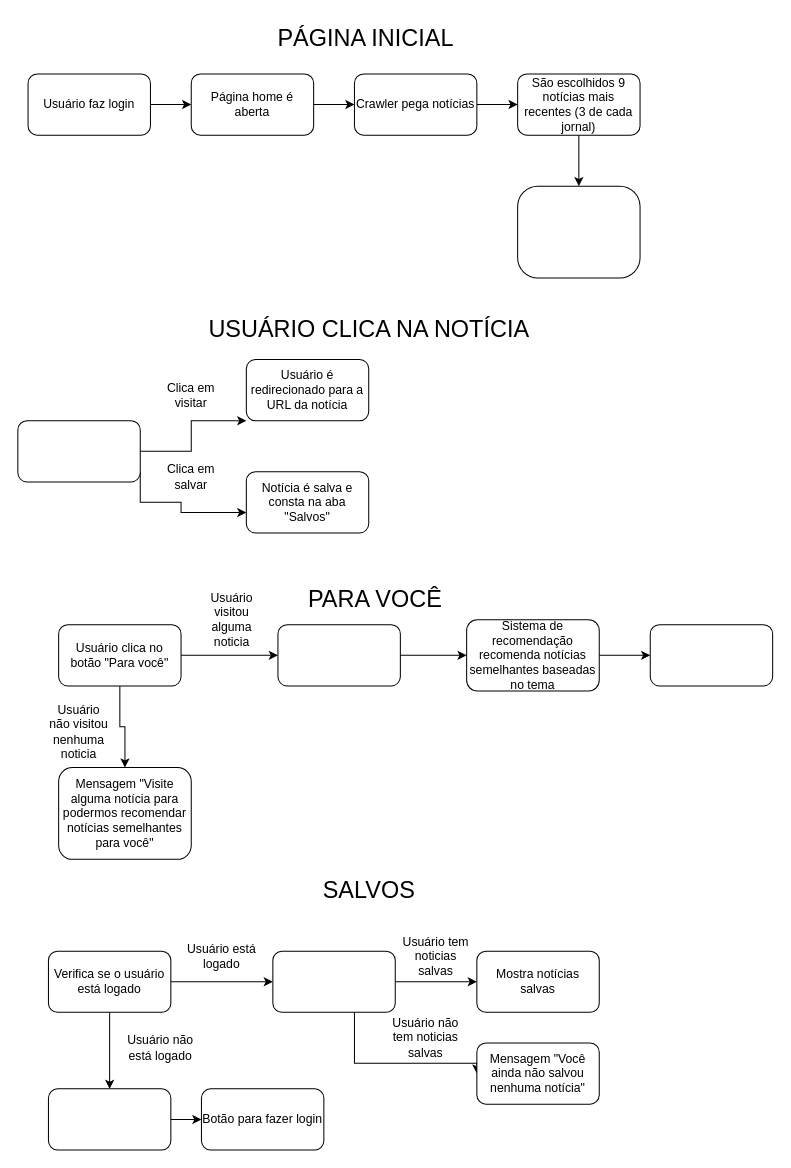
The diagram is 791 pixels wide and 1168 high, and some of its shapes have lost their labels. The box of each missing label's shape, as (x1, y1, x2, y2) in pixels:
Crawler pega as notícias mais recentes: (277, 624, 400, 686)
Mensagem "Faça login para poder ver seus itens salvos": (47, 1088, 171, 1150)
Página com notícias semelhantes as que foram clicadas: (649, 624, 773, 686)
Sistema de recomendação recomenda 4 notícias para cada notícia parecida: (517, 185, 640, 278)
Usuário clica em uma notícia: (17, 420, 140, 482)
Verifica se há notícias salvas: (272, 950, 395, 1012)
